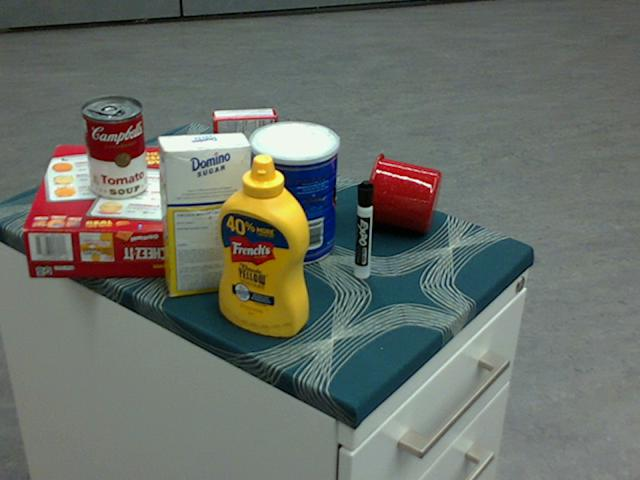cracker_box: (22, 145, 184, 279)
gelatin_box: (211, 108, 276, 165)
large_marker: (355, 180, 373, 278)
master_chef_can: (247, 120, 337, 265)
mug: (362, 151, 440, 232)
mustard_bottle: (219, 154, 309, 337)
potted_meat_can: (250, 131, 332, 213)
sugar_box: (157, 131, 250, 296)
tomato_soup_can: (80, 96, 147, 200)
tuna_fish_can: (178, 150, 218, 220)
